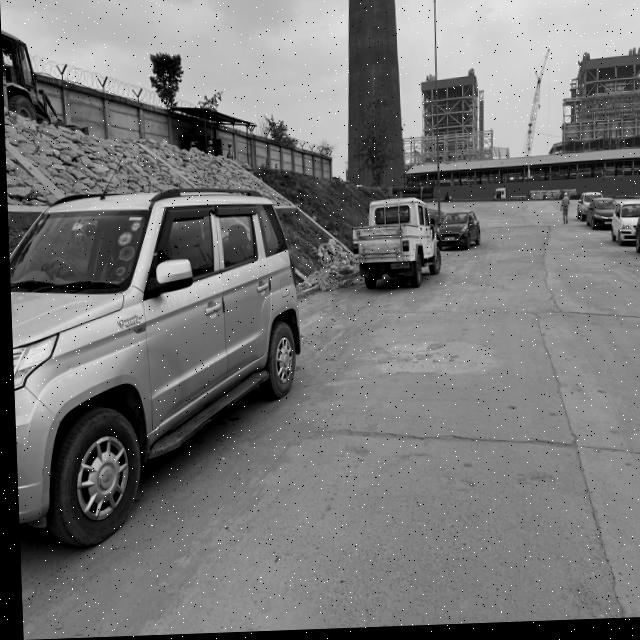car: (5, 166, 315, 577), (347, 184, 443, 332), (433, 210, 481, 256), (608, 200, 640, 251), (584, 198, 616, 238), (574, 195, 602, 225), (631, 206, 640, 260)
